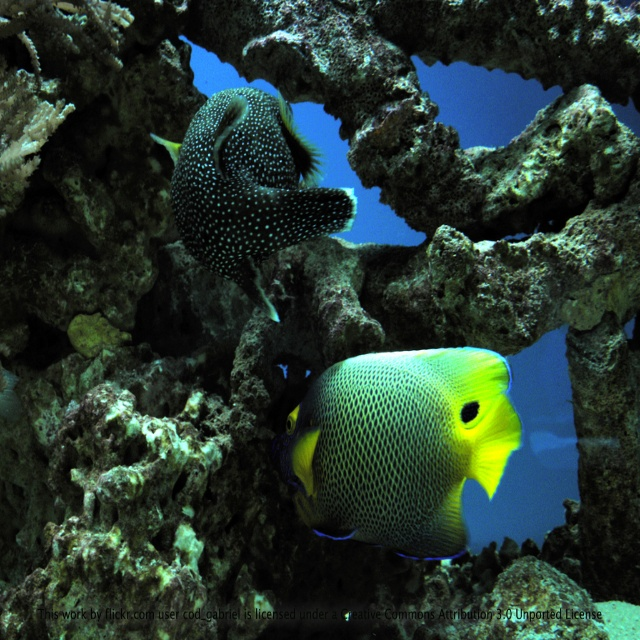Fish: (271, 347, 522, 561), (150, 87, 358, 322)
